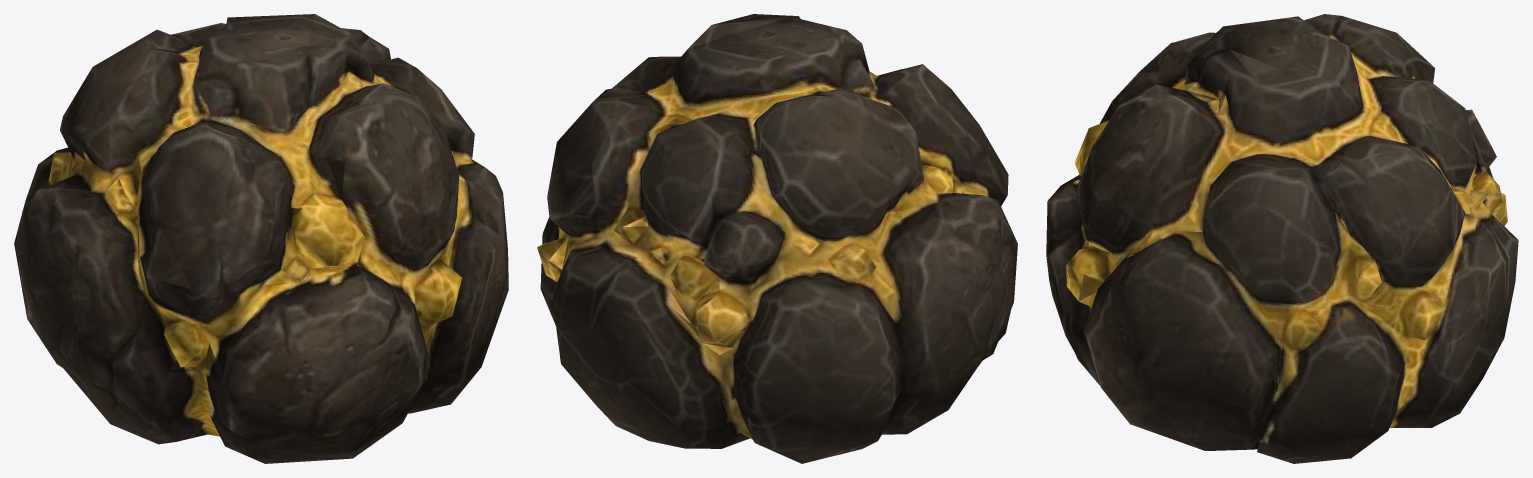
File: filon_or2.glb
3 views of the same model, side by side, from view 1: azimuth 30°, elevation 25°; view 2: azimuth 150°, elevation 25°; view 3: azimuth 270°, elevation 25° (orthographic). The views are drawn at different scales.
Visible parts, largest first — view 1: Mesh_0.001; view 2: Mesh_0.001; view 3: Mesh_0.001.
Boxes of the visible parts, bbox=[...] form: Mesh_0.001: bbox=[14, 14, 508, 463]; Mesh_0.001: bbox=[537, 14, 1017, 463]; Mesh_0.001: bbox=[1046, 14, 1518, 463].
Bounding box in the file's own units: 1.89 × 1.58 × 1.87.
1 material, 1 textured.
